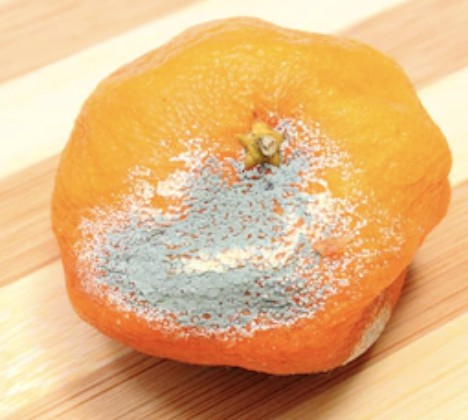rotten_orange: (51, 18, 453, 375)
